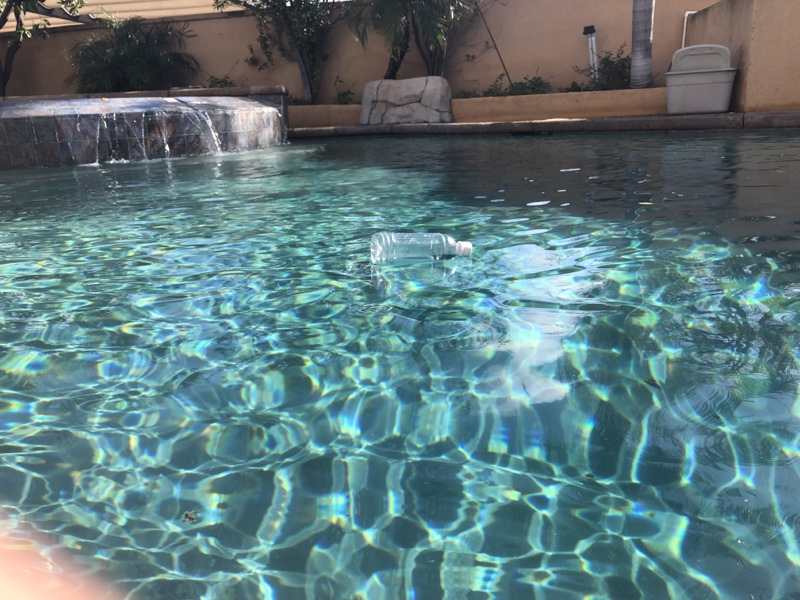Plastic Bottle: (365, 228, 476, 274)
